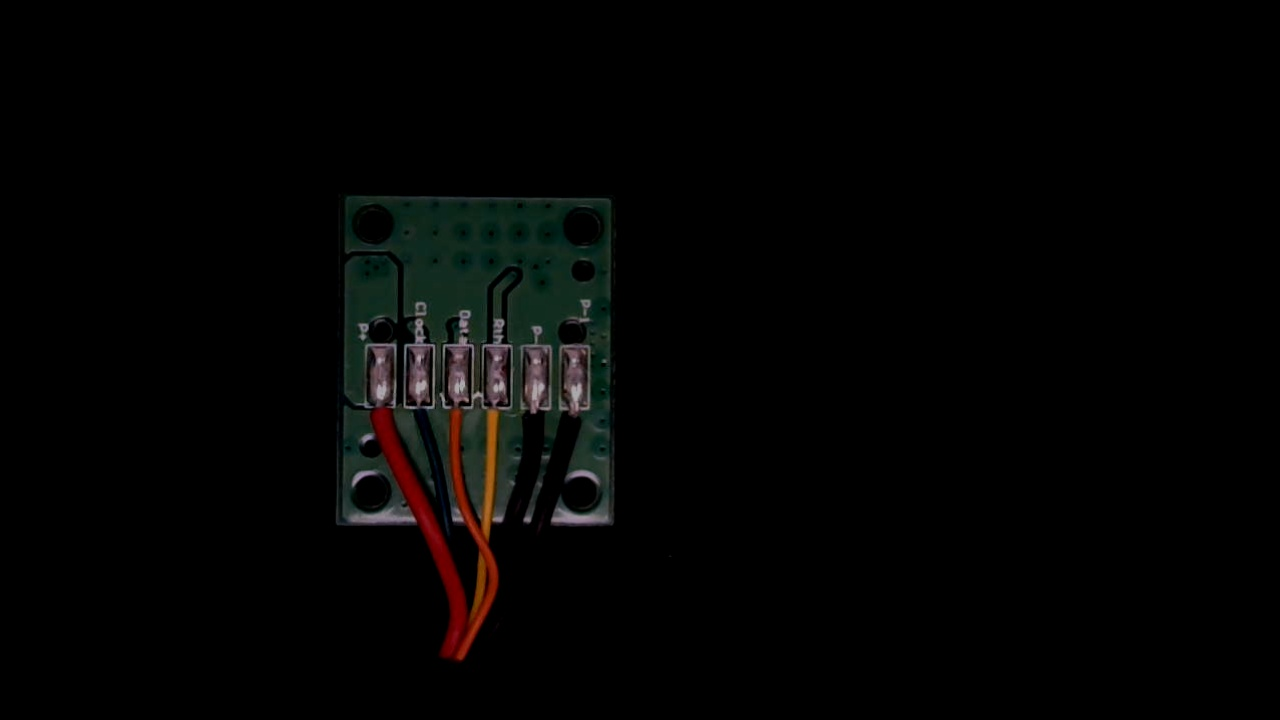Black: (520, 391, 552, 449)
Black1: (560, 391, 590, 451)
Green: (402, 390, 436, 447)
Orange: (441, 390, 473, 457)
Red: (366, 387, 398, 454)
Yellow: (482, 392, 513, 454)
